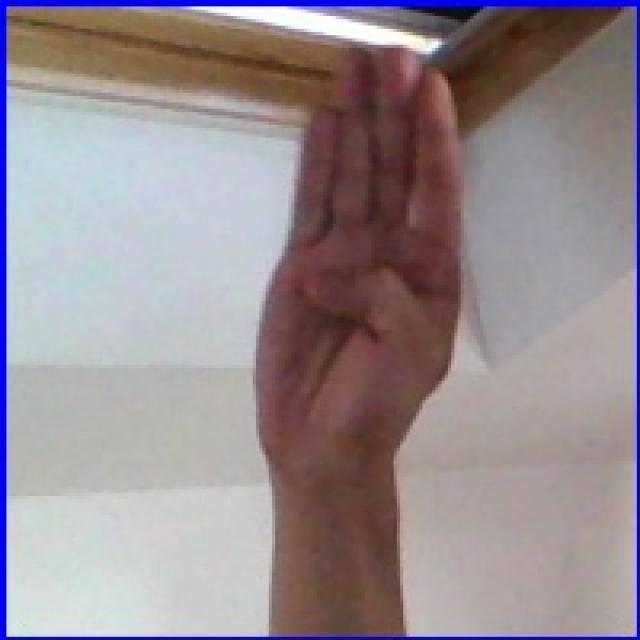Letra B: (234, 22, 490, 520)
